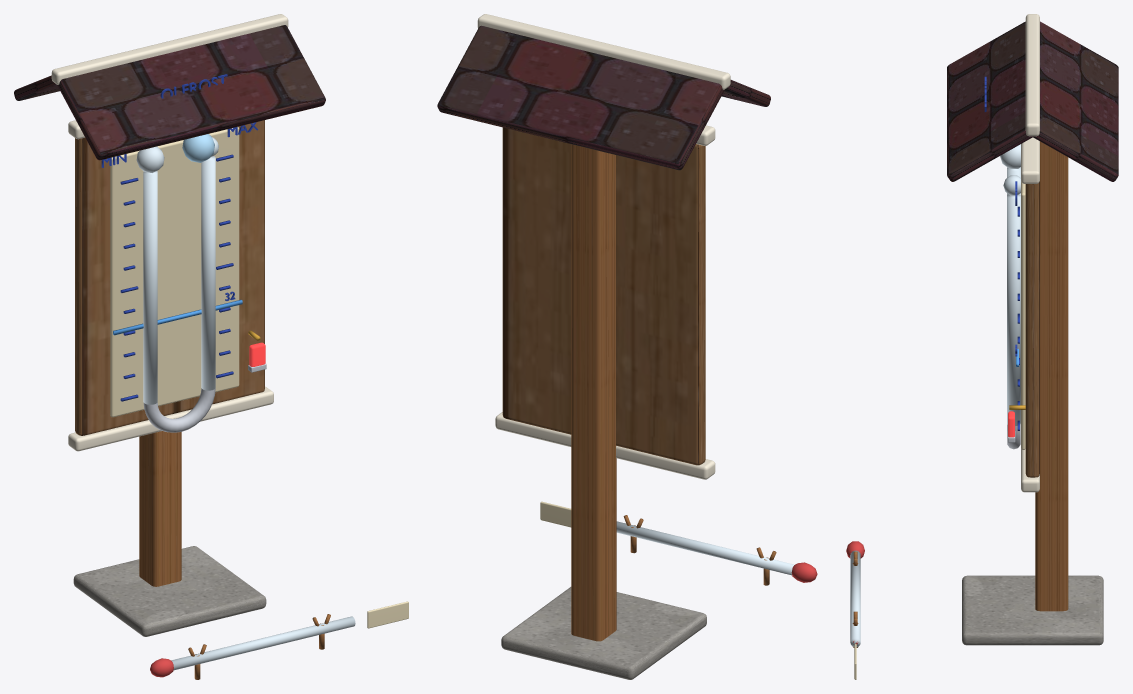
The model's file is frostpost.glb.
3 renders of one model, left to right at view 1: azimuth 30°, elevation 25°; view 2: azimuth 150°, elevation 25°; view 3: azimuth 270°, elevation 25°, orthographic. The views are drawn at different scales.
Parts seen in each view (by area): view 1: fp_scaleplate, fp_roof, fp_board, fp_pad, fp_post, fp_arm, fp_arm.001, fp_ridge, fp_trim, fp_gtube, fp_bend, fp_gtag (+3 smaller); view 2: fp_board, fp_roof.001, fp_post, fp_pad, fp_ridge, fp_trim, fp_gtube, fp_roof, fp_gtag; view 3: fp_post, fp_roof.001, fp_roof, fp_pad, fp_board, fp_arm.001, fp_ridge, fp_scaleplate, fp_gtube, fp_trim.001, fp_trim.
Boxes of the visible parts, x1,y1,x2,y2 form: fp_scaleplate: [110, 127, 239, 417]; fp_roof: [57, 25, 325, 160]; fp_board: [75, 120, 264, 435]; fp_pad: [73, 546, 266, 636]; fp_post: [139, 431, 181, 586]; fp_arm: [143, 171, 157, 404]; fp_arm.001: [201, 156, 215, 390]; fp_ridge: [51, 14, 288, 84]; fp_trim: [68, 386, 273, 451]; fp_gtube: [171, 616, 355, 670]; fp_bend: [143, 388, 215, 432]; fp_gtag: [367, 601, 408, 628]; fp_board: [502, 127, 705, 465]; fp_roof.001: [437, 25, 724, 170]; fp_post: [571, 144, 616, 641]; fp_pad: [501, 587, 706, 679]; fp_ridge: [477, 14, 730, 89]; fp_trim: [495, 412, 715, 479]; fp_gtube: [616, 521, 794, 575]; fp_roof: [721, 80, 770, 106]; fp_gtag: [540, 501, 571, 527]; fp_post: [1035, 141, 1068, 611]; fp_roof.001: [1033, 21, 1118, 181]; fp_roof: [947, 21, 1032, 181]; fp_pad: [962, 575, 1103, 645]; fp_board: [1025, 181, 1039, 477]; fp_arm.001: [1007, 194, 1020, 425]; fp_ridge: [1025, 14, 1039, 136]; fp_scaleplate: [1021, 181, 1025, 449]; fp_gtube: [850, 550, 860, 646]; fp_trim.001: [1021, 137, 1039, 183]; fp_trim: [1021, 448, 1039, 492].
Size of the model in its own units: 1.28 by 2.56 by 1.15.
16 materials, 4 textured.
